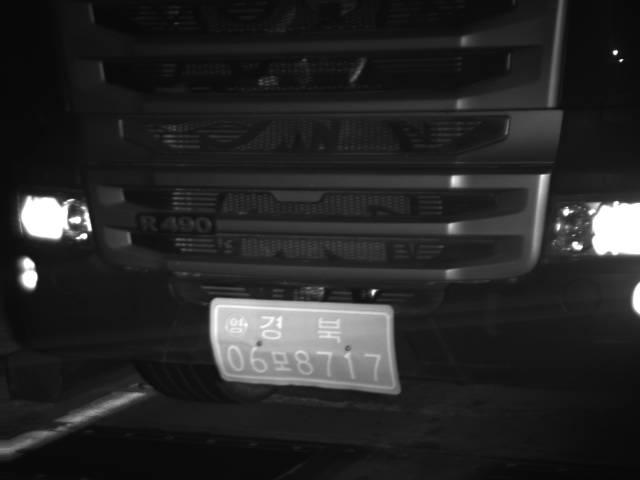car: (9, 1, 639, 403)
plate: (209, 299, 400, 391)
